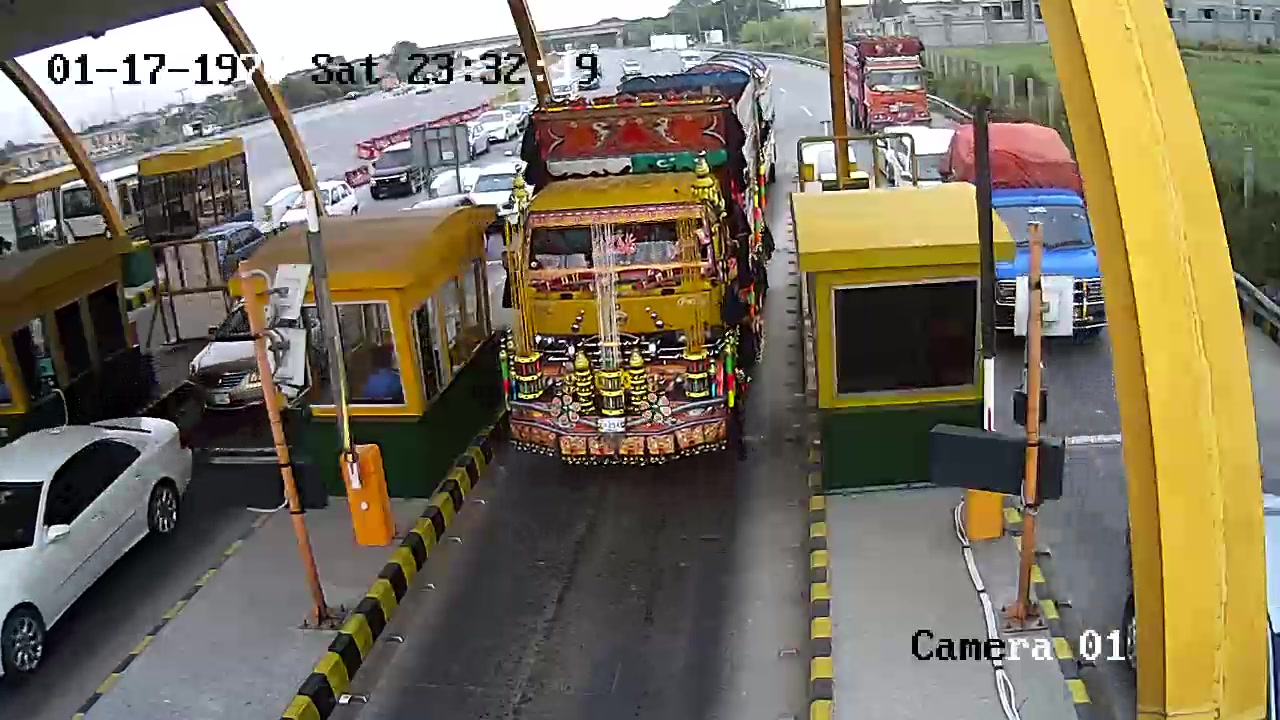F5: (485, 67, 782, 473)
